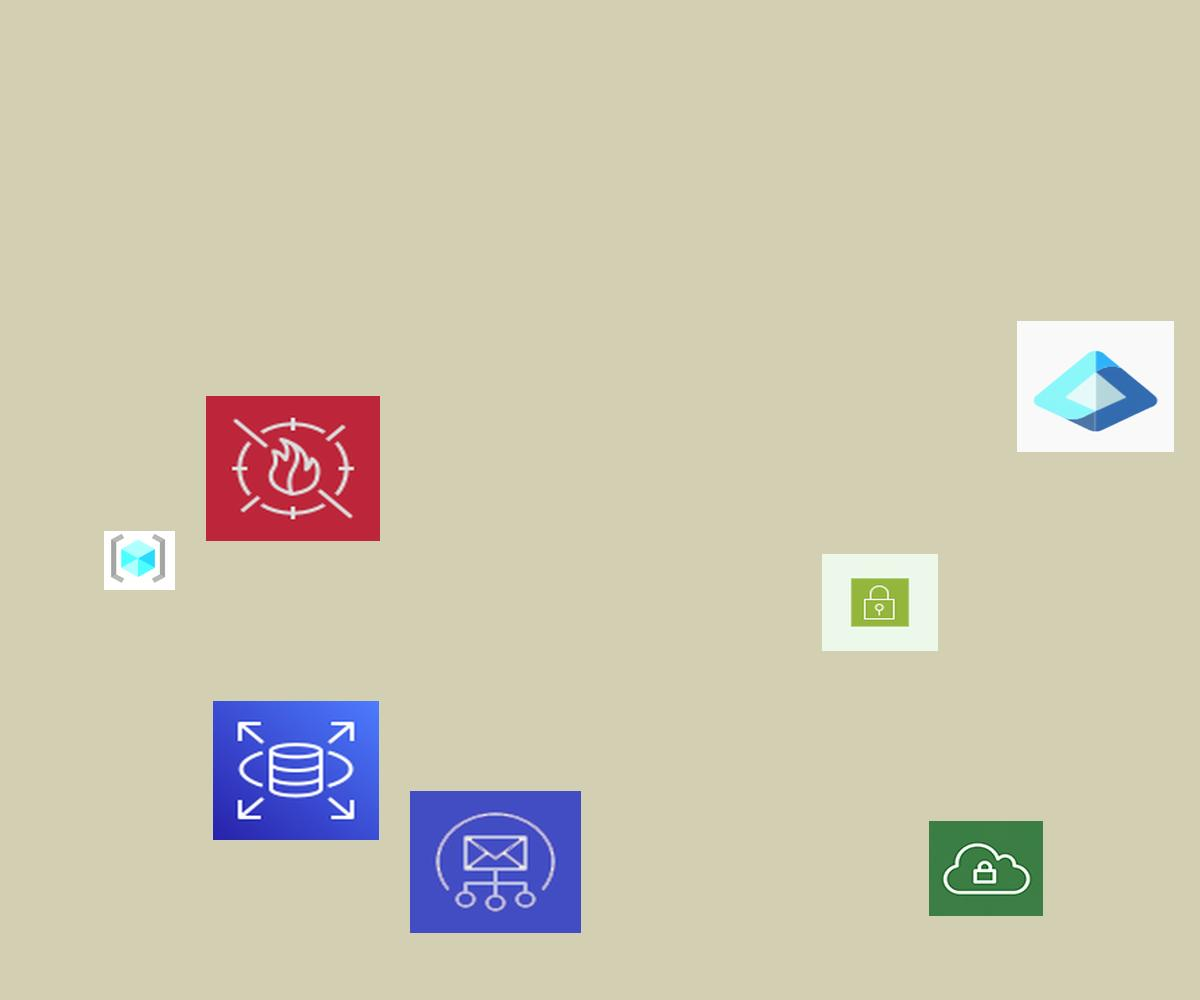AWS-Private_vpc: (929, 821, 1043, 916)
AWS-Public-subnet: (822, 554, 938, 651)
AWS-RDS: (213, 701, 379, 840)
AWS-Simple-Email-Service: (410, 791, 581, 933)
AWS-WAF: (206, 396, 380, 541)
Azure_microsoft_entra: (1017, 321, 1174, 452)
Azure_resource_group: (104, 531, 175, 590)
